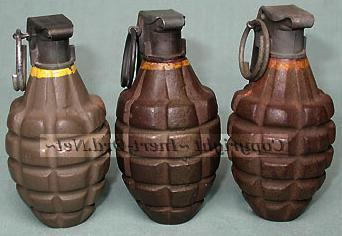Grenade: (227, 4, 336, 221), (115, 8, 223, 225), (5, 13, 111, 228)
